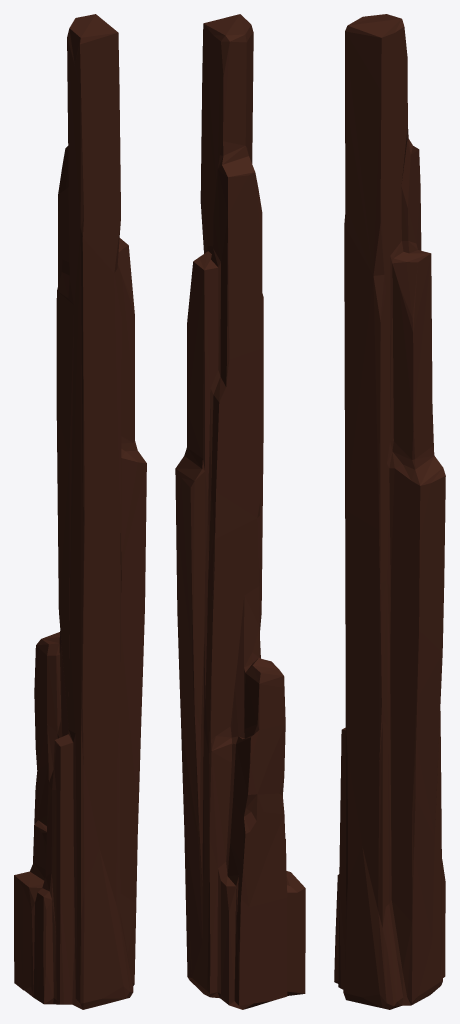
The model's file is sc_FeiTu_mesh_shan10.FBX.
3 renders of one model, left to right at view 1: azimuth 30°, elevation 25°; view 2: azimuth 210°, elevation 25°; view 3: azimuth 330°, elevation 25°, orthographic. The views are drawn at different scales.
Visible parts, largest first — view 1: mesh_shan10; view 2: mesh_shan10; view 3: mesh_shan10.
Part boxes in pixels (x1=…): mesh_shan10: x1=14, y1=14, x2=146, y2=1009; mesh_shan10: x1=175, y1=14, x2=305, y2=1009; mesh_shan10: x1=334, y1=14, x2=445, y2=1009.
Bounding box in the file's own units: 310 × 2852 × 286.
